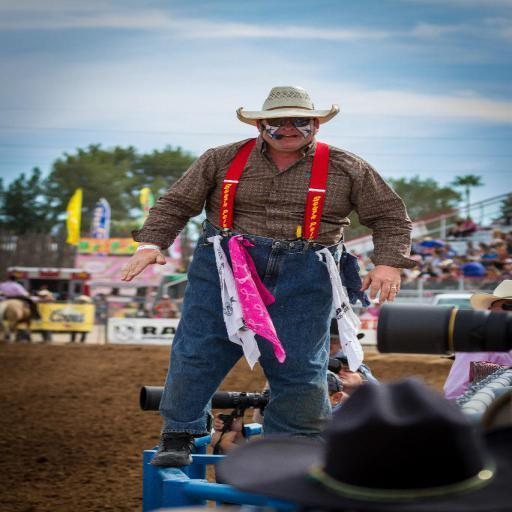horse: (1, 290, 46, 340)
